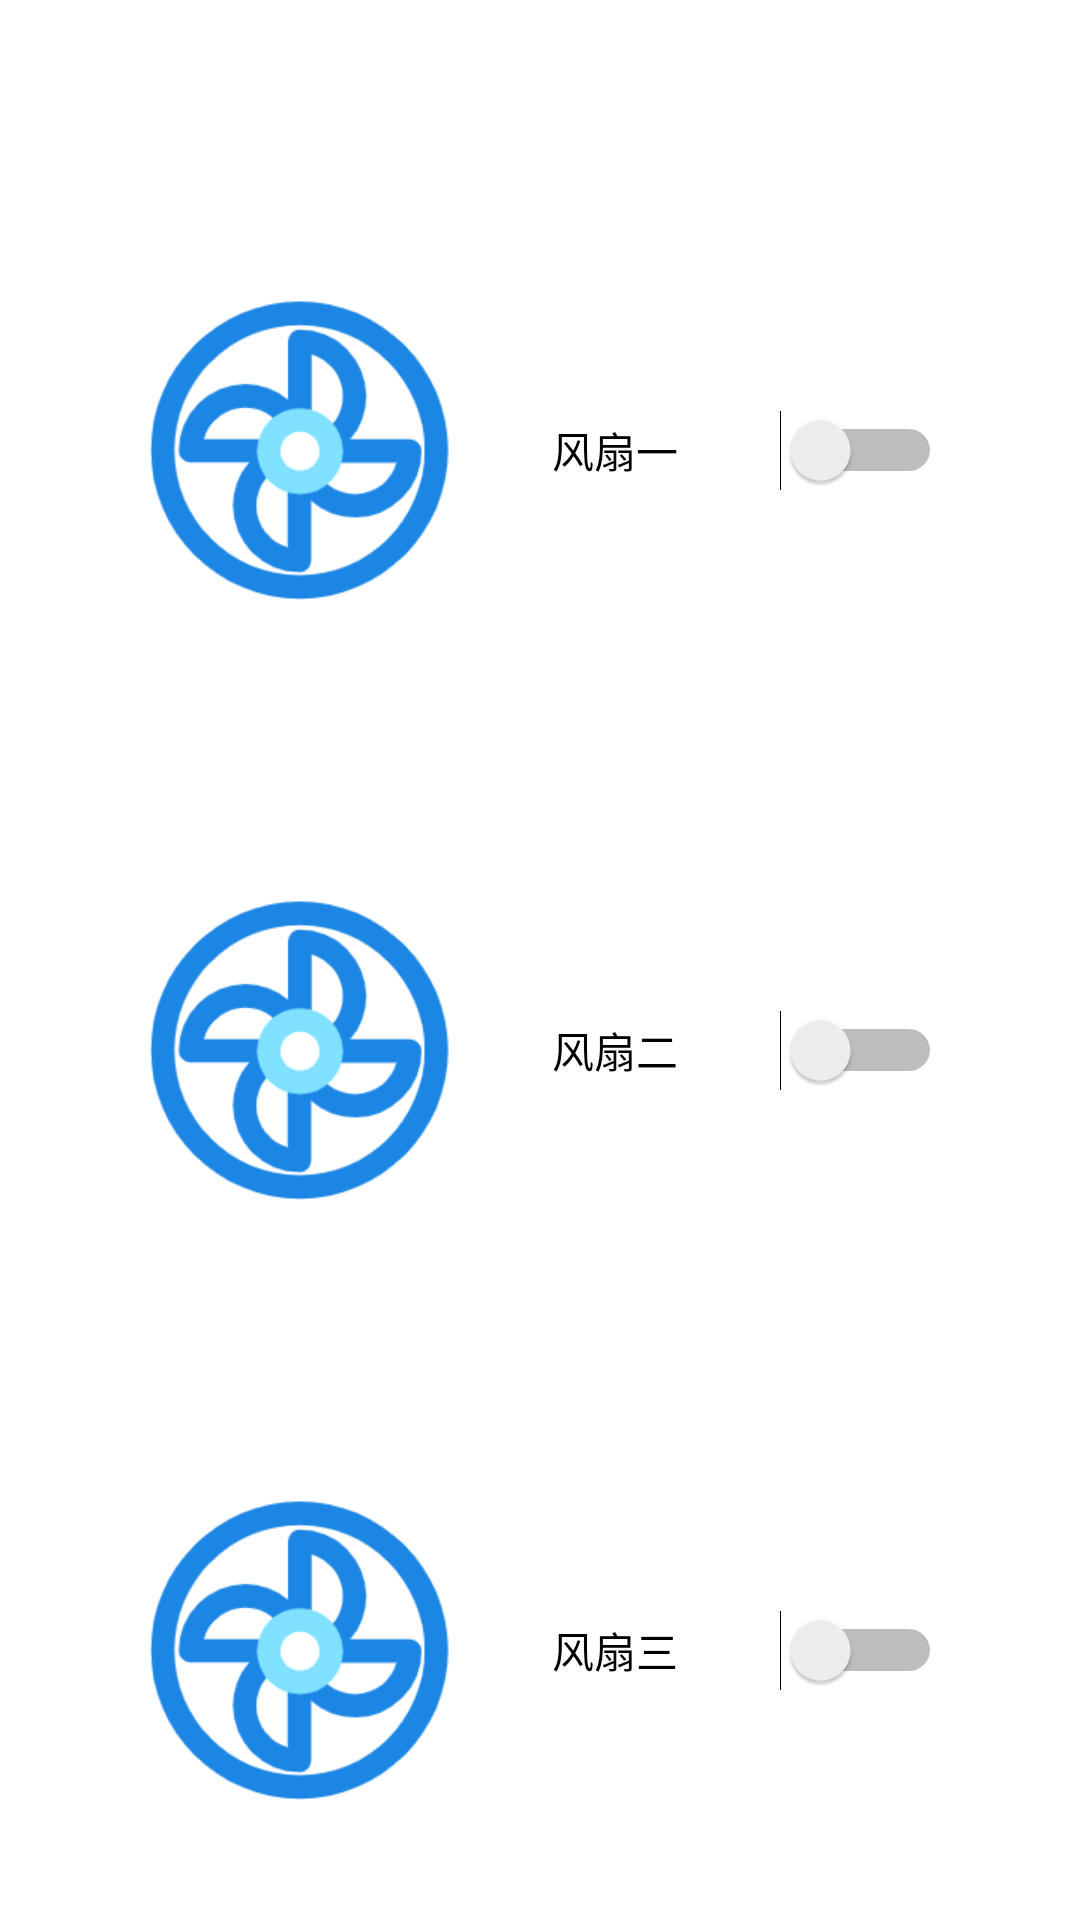

Icons on this 1080w x 1920h Android screen, each with its box as (x1, y1, x2, y2):
fengshan: (150, 301, 449, 600), (150, 901, 449, 1200), (150, 1501, 449, 1800)
